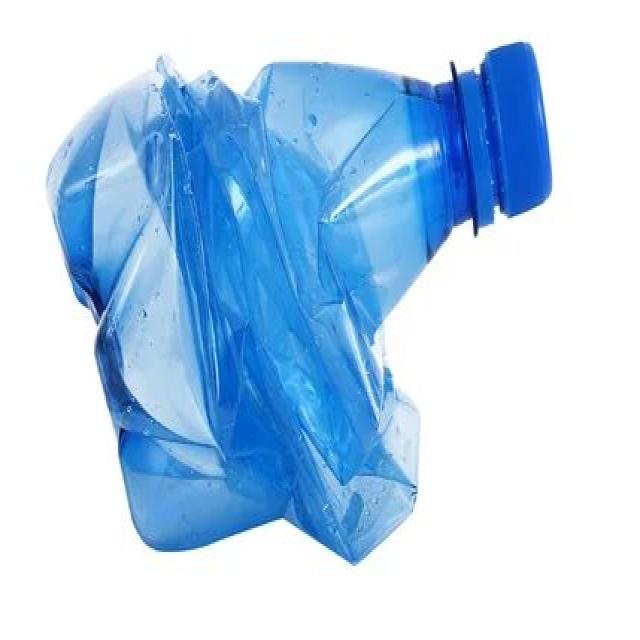blue: (45, 50, 481, 568)
